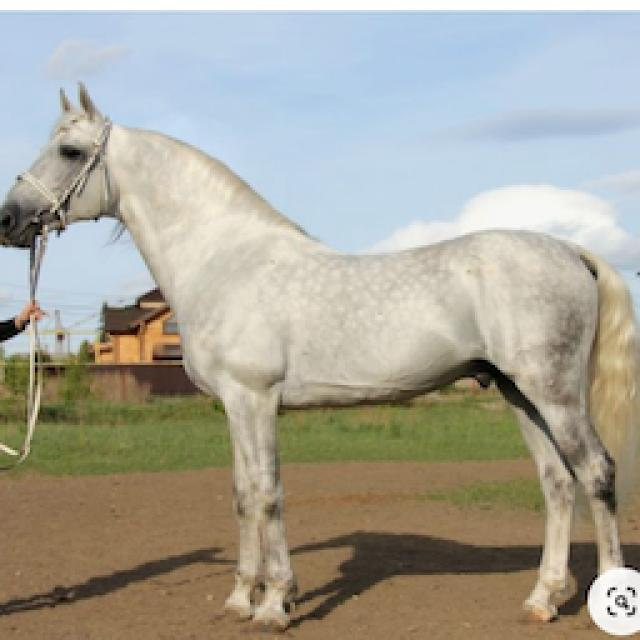Horse: (0, 77, 638, 635)
